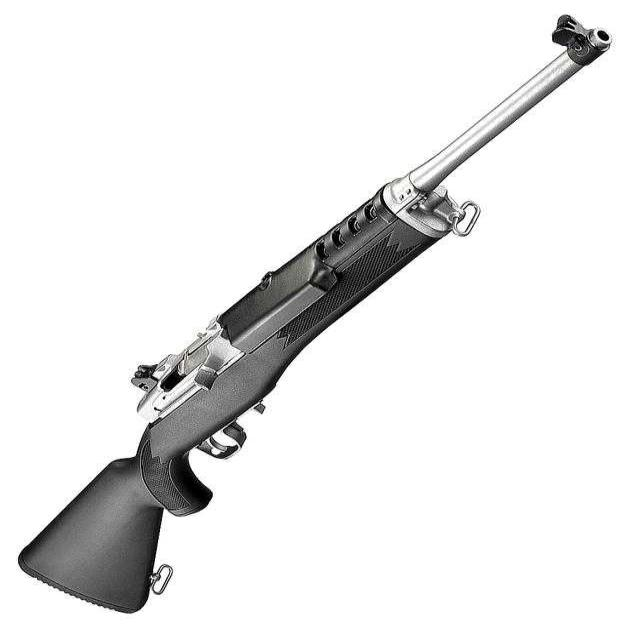heavyweapon: (5, 10, 620, 617)
